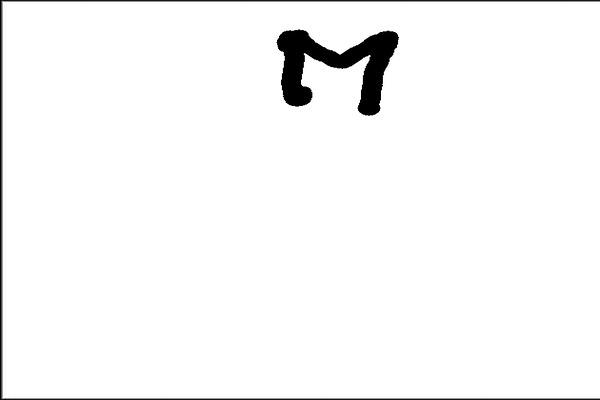M: (273, 23, 399, 115)
